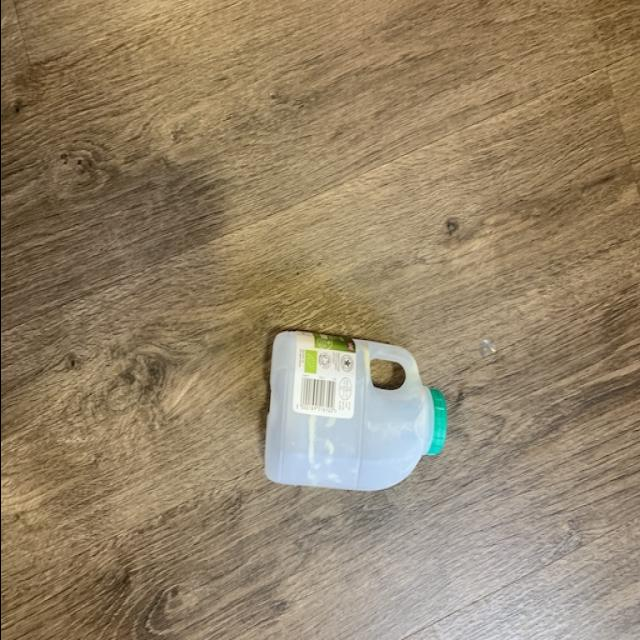litter: (258, 328, 452, 497)
